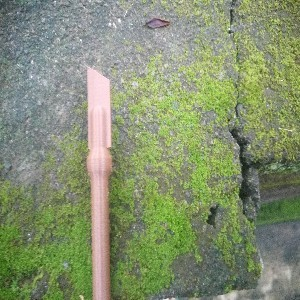cutter: (84, 64, 113, 300)
